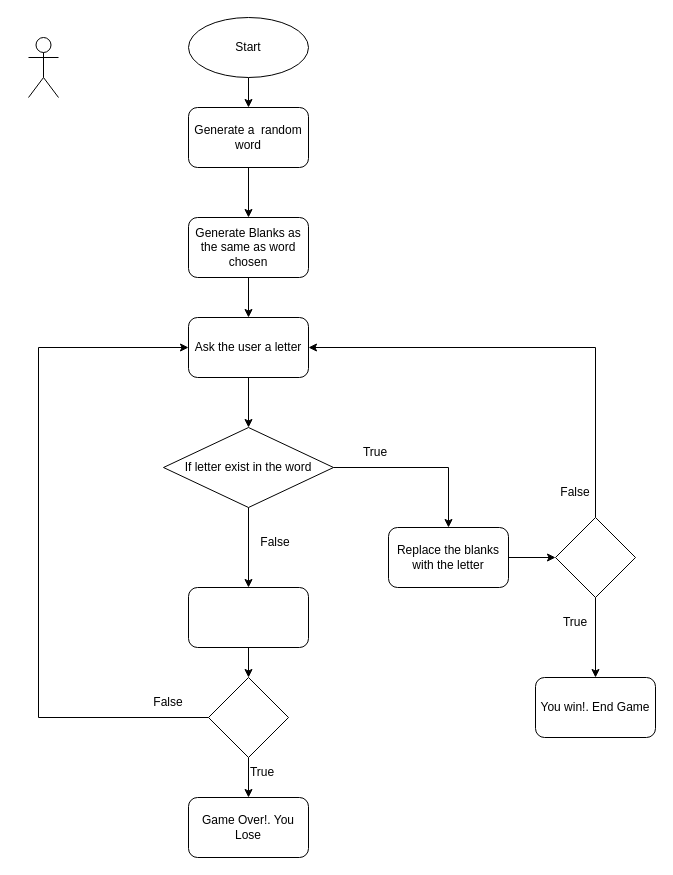
This 673x875 diagram has some shape labels left out. Each missing label, with the centre of its shape:
"Hangman" belongs at [43,67].
"If word complete" belongs at [595,557].
"Life Empty?" belongs at [248,717].
"Lose Life!" belongs at [248,617].
